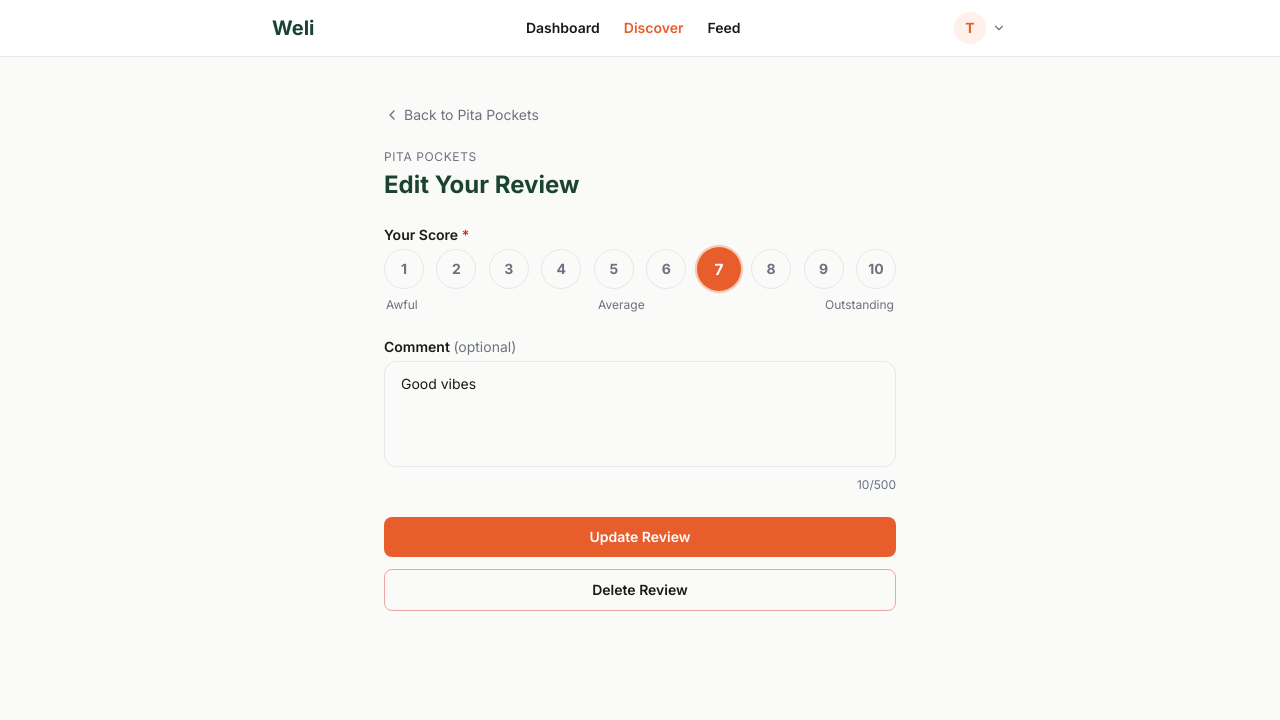
Scenario: ReviewFormPage — edit mode › opens ConfirmModal when "Delete Review" is clicked
Step 1. Click the button "Delete Review" → coordinates (640, 590), box left=384, top=569, right=896, bottom=611
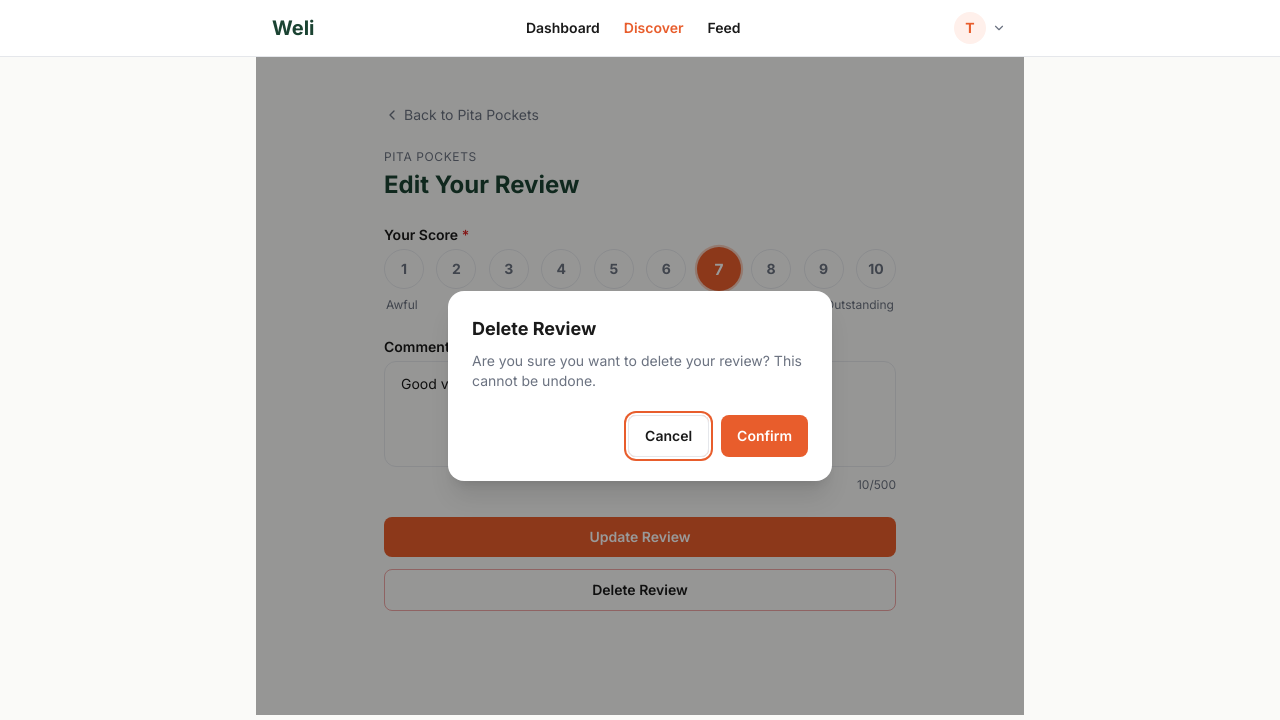
Now the dialog is shown, box left=448, top=291, right=832, bottom=481
